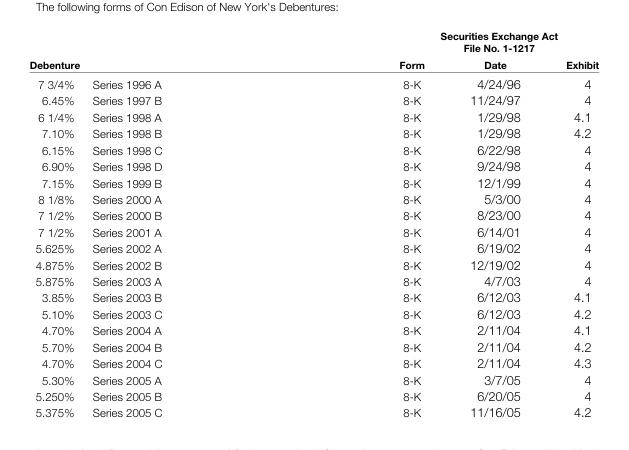table: (28, 28, 598, 419)
table column: (85, 28, 280, 419), (280, 28, 446, 419), (446, 28, 542, 419), (28, 28, 85, 419), (542, 28, 598, 419)
table column header: (28, 28, 598, 91)
table row: (28, 55, 598, 91), (28, 28, 598, 55), (28, 107, 598, 124), (28, 140, 598, 157), (28, 173, 598, 190), (28, 222, 598, 239), (28, 255, 598, 272), (28, 304, 598, 321), (28, 337, 598, 354), (28, 386, 598, 403), (28, 91, 598, 107), (28, 124, 598, 140), (28, 157, 598, 173), (28, 190, 598, 206), (28, 206, 598, 222), (28, 239, 598, 255), (28, 272, 598, 288), (28, 288, 598, 304), (28, 321, 598, 337), (28, 354, 598, 370), (28, 370, 598, 386), (28, 403, 598, 419)
table spanning cell: (85, 28, 280, 91), (280, 28, 598, 55), (28, 28, 85, 91)
